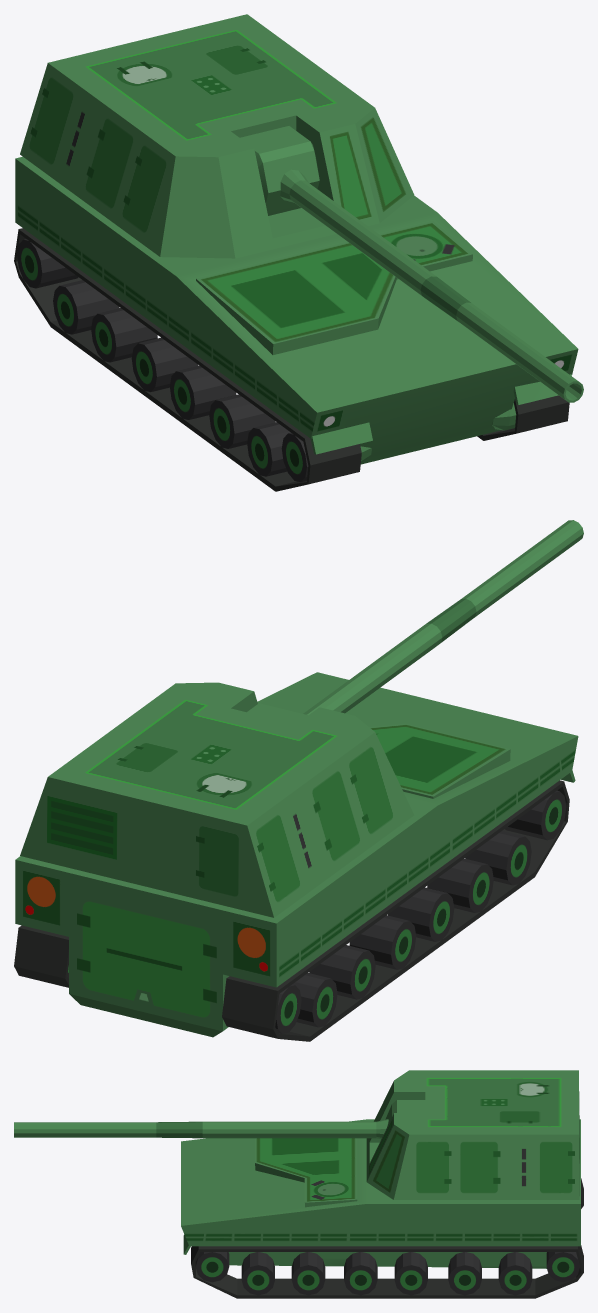
The model's file is SelfPropelledArtillery_01.fbx.
The picture shows the model from 3 angles, top to bottom: view 1: azimuth 30°, elevation 25°; view 2: azimuth 150°, elevation 25°; view 3: azimuth 270°, elevation 25°; orthographic projection. The views are drawn at different scales.
Visible parts, largest first — view 1: SelfPropelledArtillery_01_LowerBody, SelfPropelledArtillery_01_UpperBody, SelfPropelledArtillery_01_MainGun, SelfPropelledArtillery_01_RightCaterPillar, SelfPropelledArtillery_01_MainGunBody, SelfPropelledArtillery_01_RightWheel03, SelfPropelledArtillery_01_RightWheel05, SelfPropelledArtillery_01_RightWheel02, SelfPropelledArtillery_01_RightWheel04, SelfPropelledArtillery_01_RightWheel06, SelfPropelledArtillery_01_LeftCaterPillar, SelfPropelledArtillery_01_RightWheel07 (+2 smaller); view 2: SelfPropelledArtillery_01_LowerBody, SelfPropelledArtillery_01_UpperBody, SelfPropelledArtillery_01_RightCaterPillar, SelfPropelledArtillery_01_MainGun, SelfPropelledArtillery_01_LeftCaterPillar, SelfPropelledArtillery_01_RightWheel04, SelfPropelledArtillery_01_RightWheel06, SelfPropelledArtillery_01_RightWheel03, SelfPropelledArtillery_01_RightWheel05, SelfPropelledArtillery_01_RightWheel07, SelfPropelledArtillery_01_RightWheel02, SelfPropelledArtillery_01_RightWheel08 (+1 smaller); view 3: SelfPropelledArtillery_01_LowerBody, SelfPropelledArtillery_01_UpperBody, SelfPropelledArtillery_01_LeftCaterPillar, SelfPropelledArtillery_01_MainGun, SelfPropelledArtillery_01_LeftWheel03, SelfPropelledArtillery_01_LeftWheel07, SelfPropelledArtillery_01_LeftWheel06, SelfPropelledArtillery_01_LeftWheel04, SelfPropelledArtillery_01_LeftWheel02, SelfPropelledArtillery_01_LeftWheel05, SelfPropelledArtillery_01_LeftWheel01, SelfPropelledArtillery_01_LeftWheel08 (+1 smaller).
Boxes of the visible parts, x1,y1,x2,y2 form: SelfPropelledArtillery_01_LowerBody: (15, 156, 578, 464); SelfPropelledArtillery_01_UpperBody: (20, 14, 414, 258); SelfPropelledArtillery_01_MainGun: (280, 169, 583, 402); SelfPropelledArtillery_01_RightCaterPillar: (14, 228, 361, 491); SelfPropelledArtillery_01_MainGunBody: (240, 126, 319, 215); SelfPropelledArtillery_01_RightWheel03: (91, 308, 157, 362); SelfPropelledArtillery_01_RightWheel05: (169, 365, 236, 419); SelfPropelledArtillery_01_RightWheel02: (53, 280, 119, 334); SelfPropelledArtillery_01_RightWheel04: (131, 337, 198, 392); SelfPropelledArtillery_01_RightWheel06: (209, 394, 275, 448); SelfPropelledArtillery_01_LeftCaterPillar: (477, 395, 569, 440); SelfPropelledArtillery_01_RightWheel07: (247, 422, 290, 476); SelfPropelledArtillery_01_LowerBody: (15, 672, 578, 1037); SelfPropelledArtillery_01_UpperBody: (20, 682, 414, 917); SelfPropelledArtillery_01_RightCaterPillar: (222, 780, 569, 1041); SelfPropelledArtillery_01_MainGun: (303, 520, 583, 715); SelfPropelledArtillery_01_LeftCaterPillar: (14, 925, 68, 987); SelfPropelledArtillery_01_RightWheel04: (349, 915, 416, 969); SelfPropelledArtillery_01_RightWheel06: (427, 858, 493, 912); SelfPropelledArtillery_01_RightWheel03: (309, 945, 375, 999); SelfPropelledArtillery_01_RightWheel05: (388, 887, 454, 941); SelfPropelledArtillery_01_RightWheel07: (465, 831, 531, 885); SelfPropelledArtillery_01_RightWheel02: (292, 973, 337, 1027); SelfPropelledArtillery_01_RightWheel08: (505, 790, 566, 840); SelfPropelledArtillery_01_LowerBody: (181, 1119, 580, 1268); SelfPropelledArtillery_01_UpperBody: (366, 1070, 579, 1199); SelfPropelledArtillery_01_LeftCaterPillar: (191, 1245, 583, 1298); SelfPropelledArtillery_01_MainGun: (14, 1119, 388, 1139); SelfPropelledArtillery_01_LeftWheel03: (291, 1252, 325, 1295); SelfPropelledArtillery_01_LeftWheel07: (498, 1252, 532, 1295); SelfPropelledArtillery_01_LeftWheel06: (448, 1252, 481, 1295); SelfPropelledArtillery_01_LeftWheel04: (344, 1252, 377, 1295); SelfPropelledArtillery_01_LeftWheel02: (241, 1252, 274, 1295); SelfPropelledArtillery_01_LeftWheel05: (394, 1252, 427, 1295); SelfPropelledArtillery_01_LeftWheel01: (195, 1252, 229, 1282); SelfPropelledArtillery_01_LeftWheel08: (546, 1252, 579, 1282).
Bounding box in the file's own units: 38.12 × 32.48 × 109.
